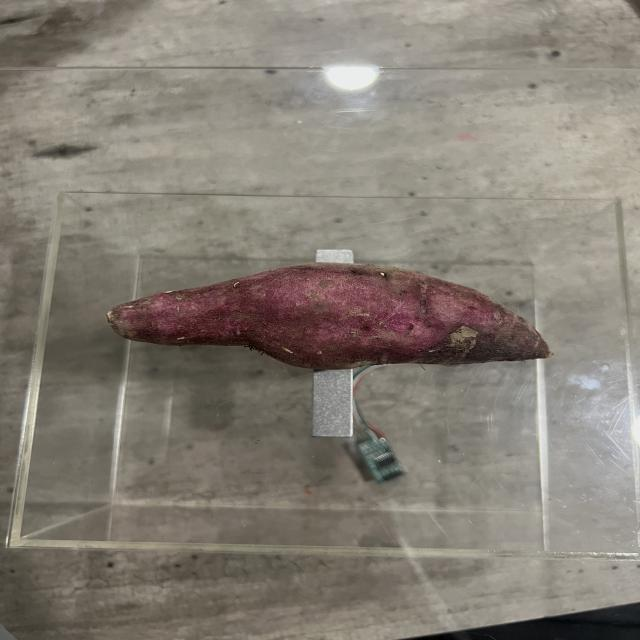sweet potato: (113, 259, 553, 369)
